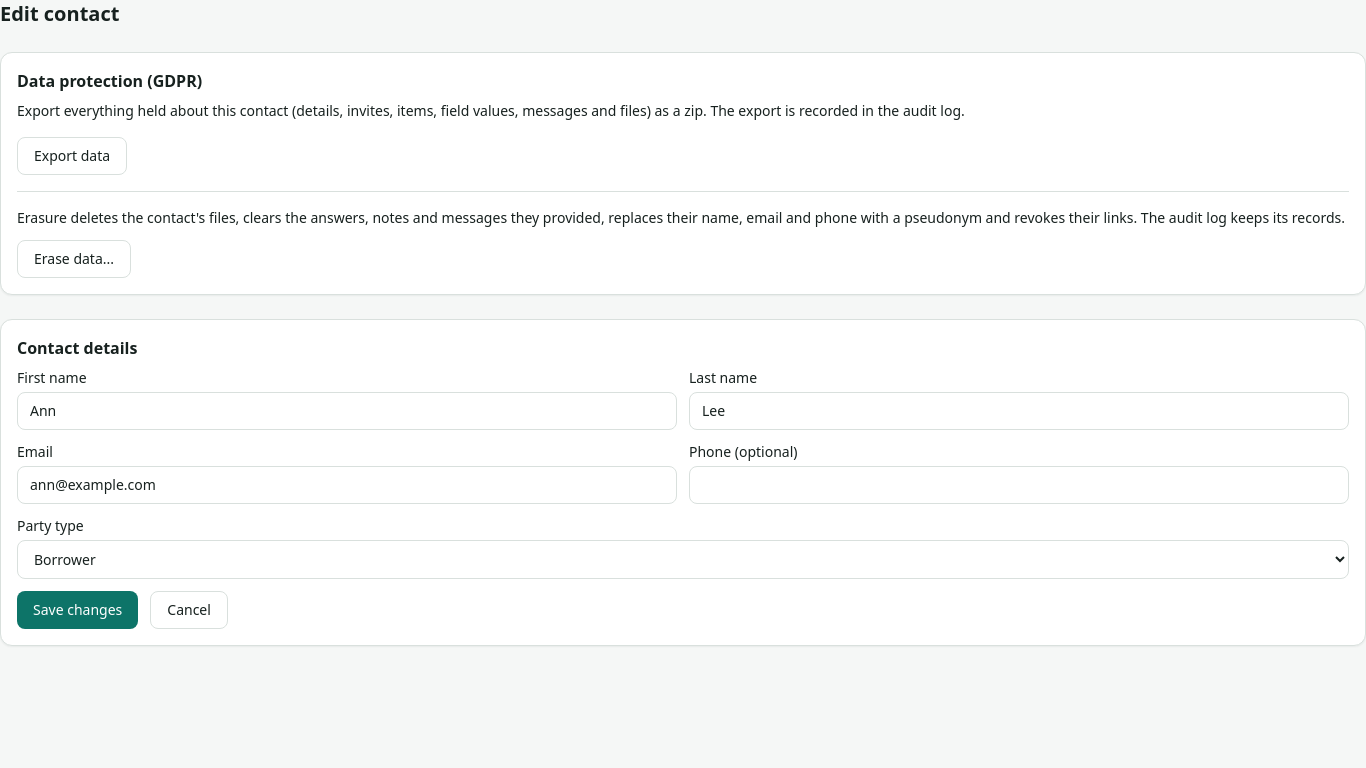
Scenario: GdprPanel › erases only after an explicit confirmation
The width and height of the screenshot is (1366, 768).
Click the button "Erase data..." at (74, 259), box [17,240,131,278]
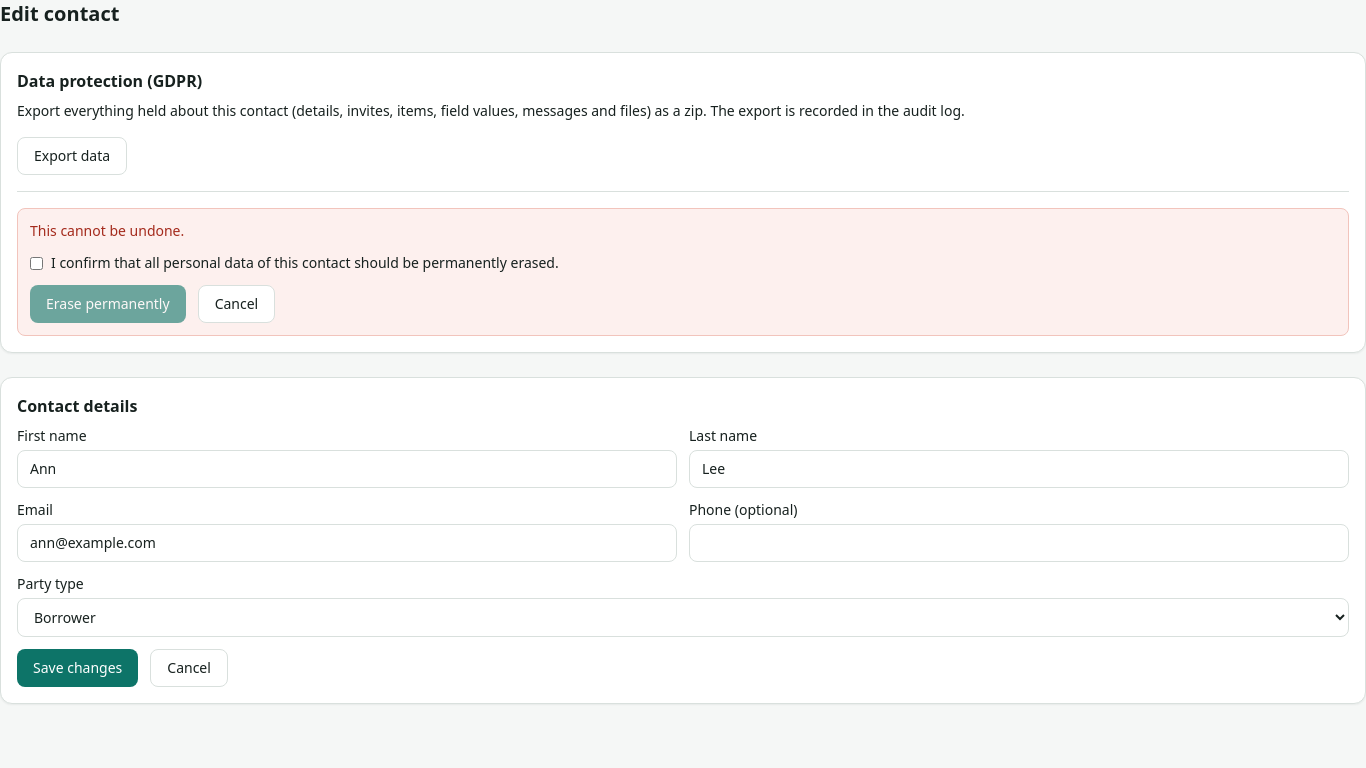
expect the button "Erase permanently" is disabled: met, box [30,285,186,323]
Click the checkbox at (36, 264), box [30,257,43,270]
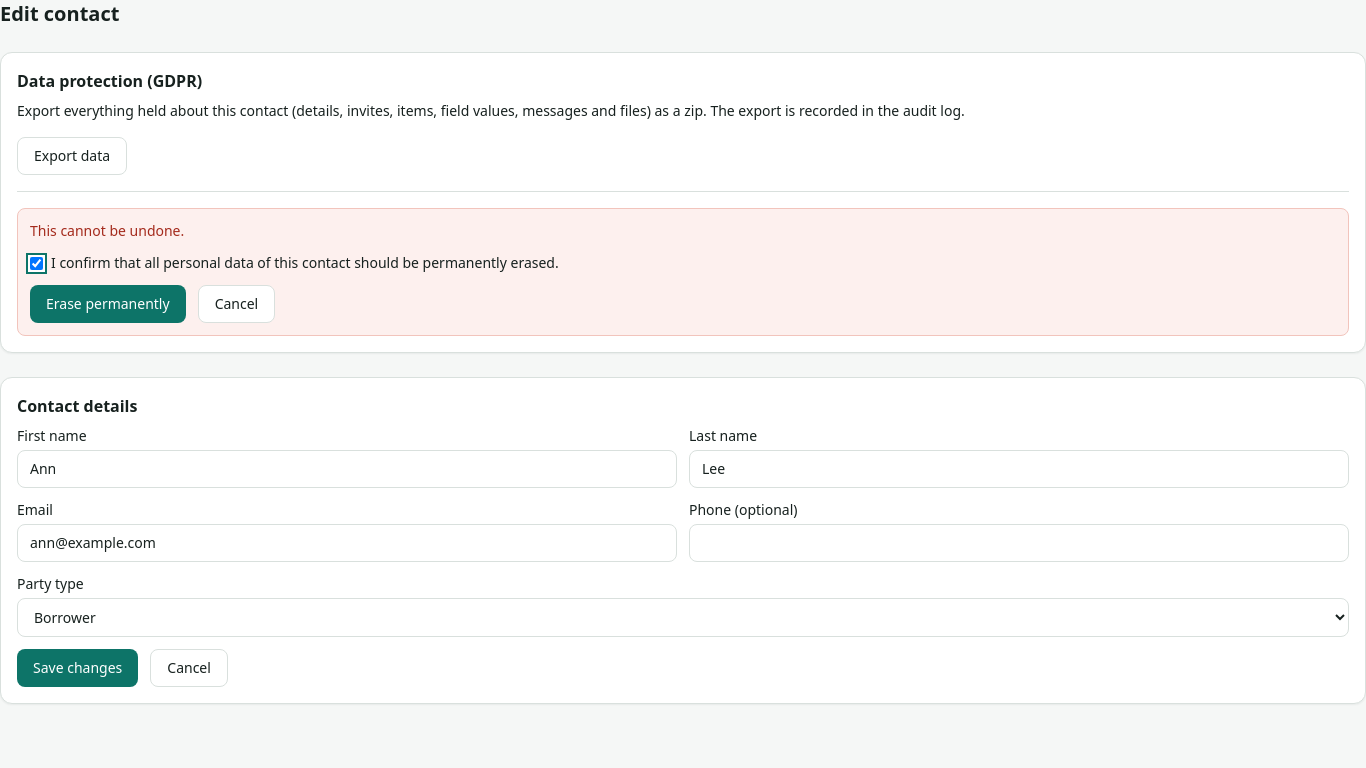
Click the button "Erase permanently" at (108, 304), box [30,285,186,323]
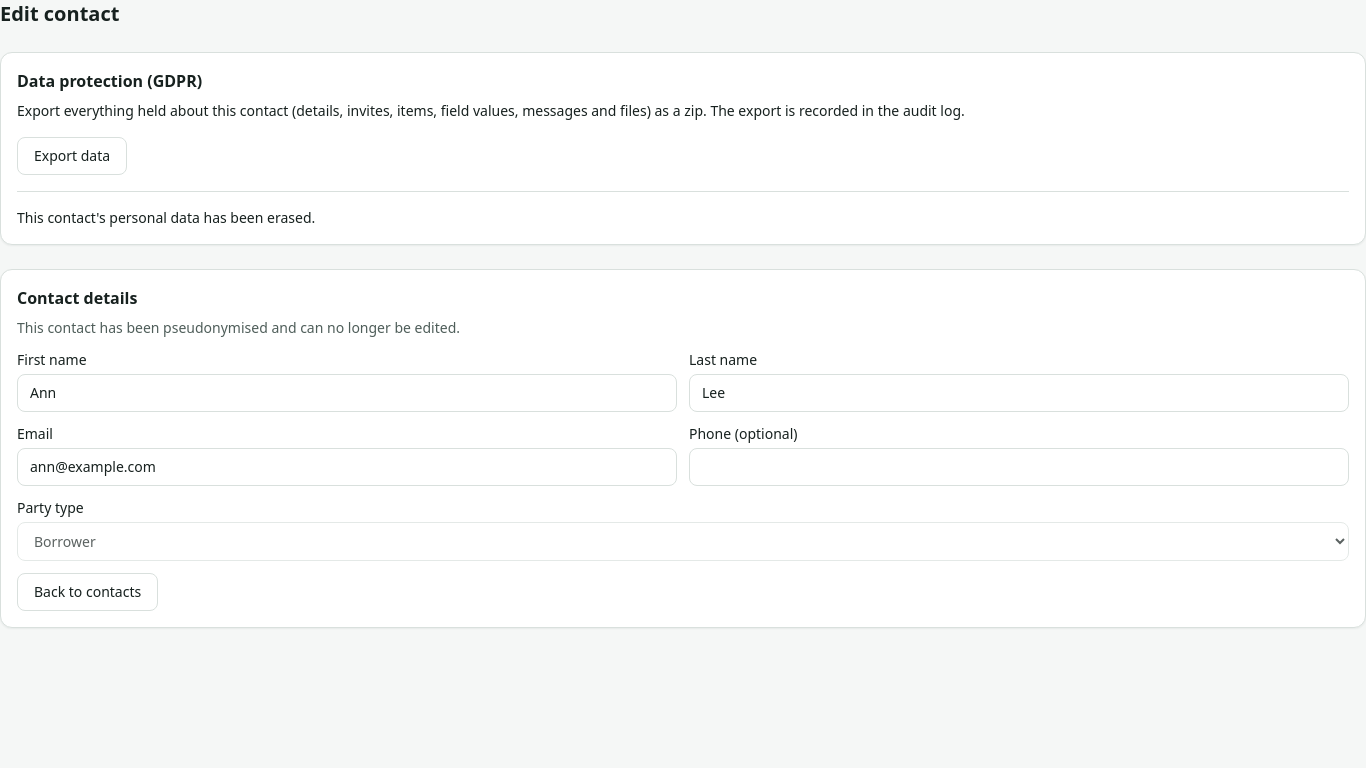
expect the text "This contact's personal data has been erased." is shown: met, box [17,208,315,227]
